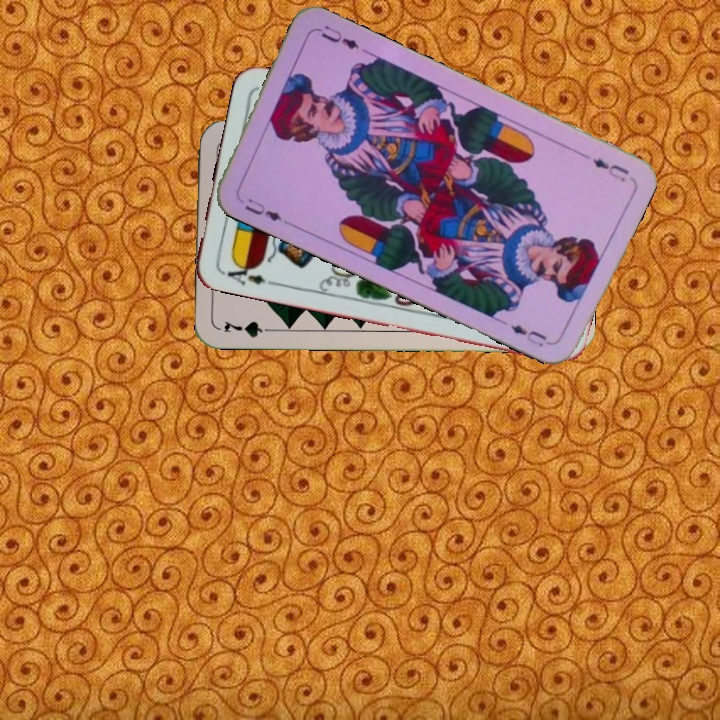EA: (218, 257, 268, 288)
EU: (241, 194, 291, 225), (588, 154, 632, 185)
G7: (219, 317, 278, 340)
